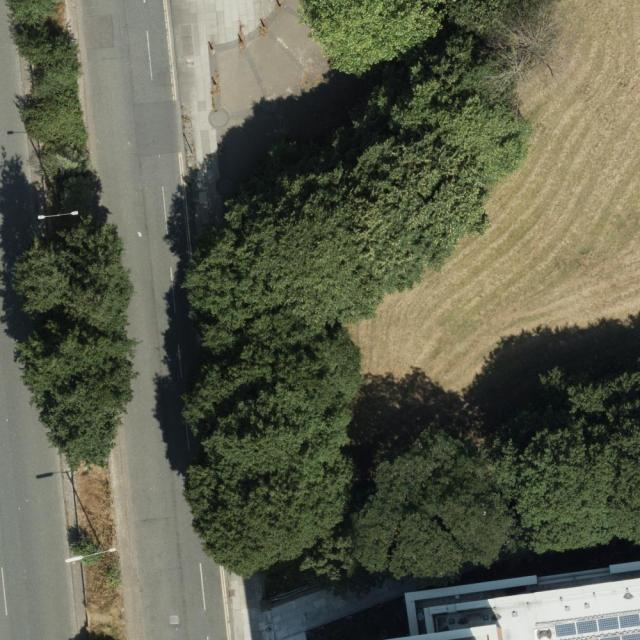roof: (393, 559, 640, 640)
solar: (555, 609, 640, 640)
